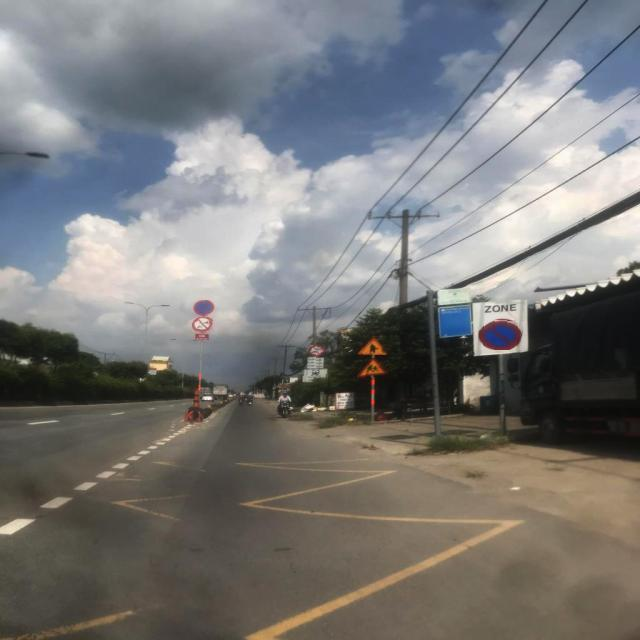cam_do_xe: (478, 318, 522, 350)
cam_dung_xe_va_do_xe: (193, 300, 215, 316)
cam_o_to_tai_va_xe_khach: (308, 344, 326, 357)
cam_xe_2_banh_va_xe_3_banh_co_dong_co: (192, 317, 215, 333)
chu_y_tre_em: (357, 358, 391, 378)
giao_nhau_voi_duong_khong_uu_tien: (357, 335, 391, 355)
khac: (302, 370, 328, 382), (308, 356, 326, 368)
